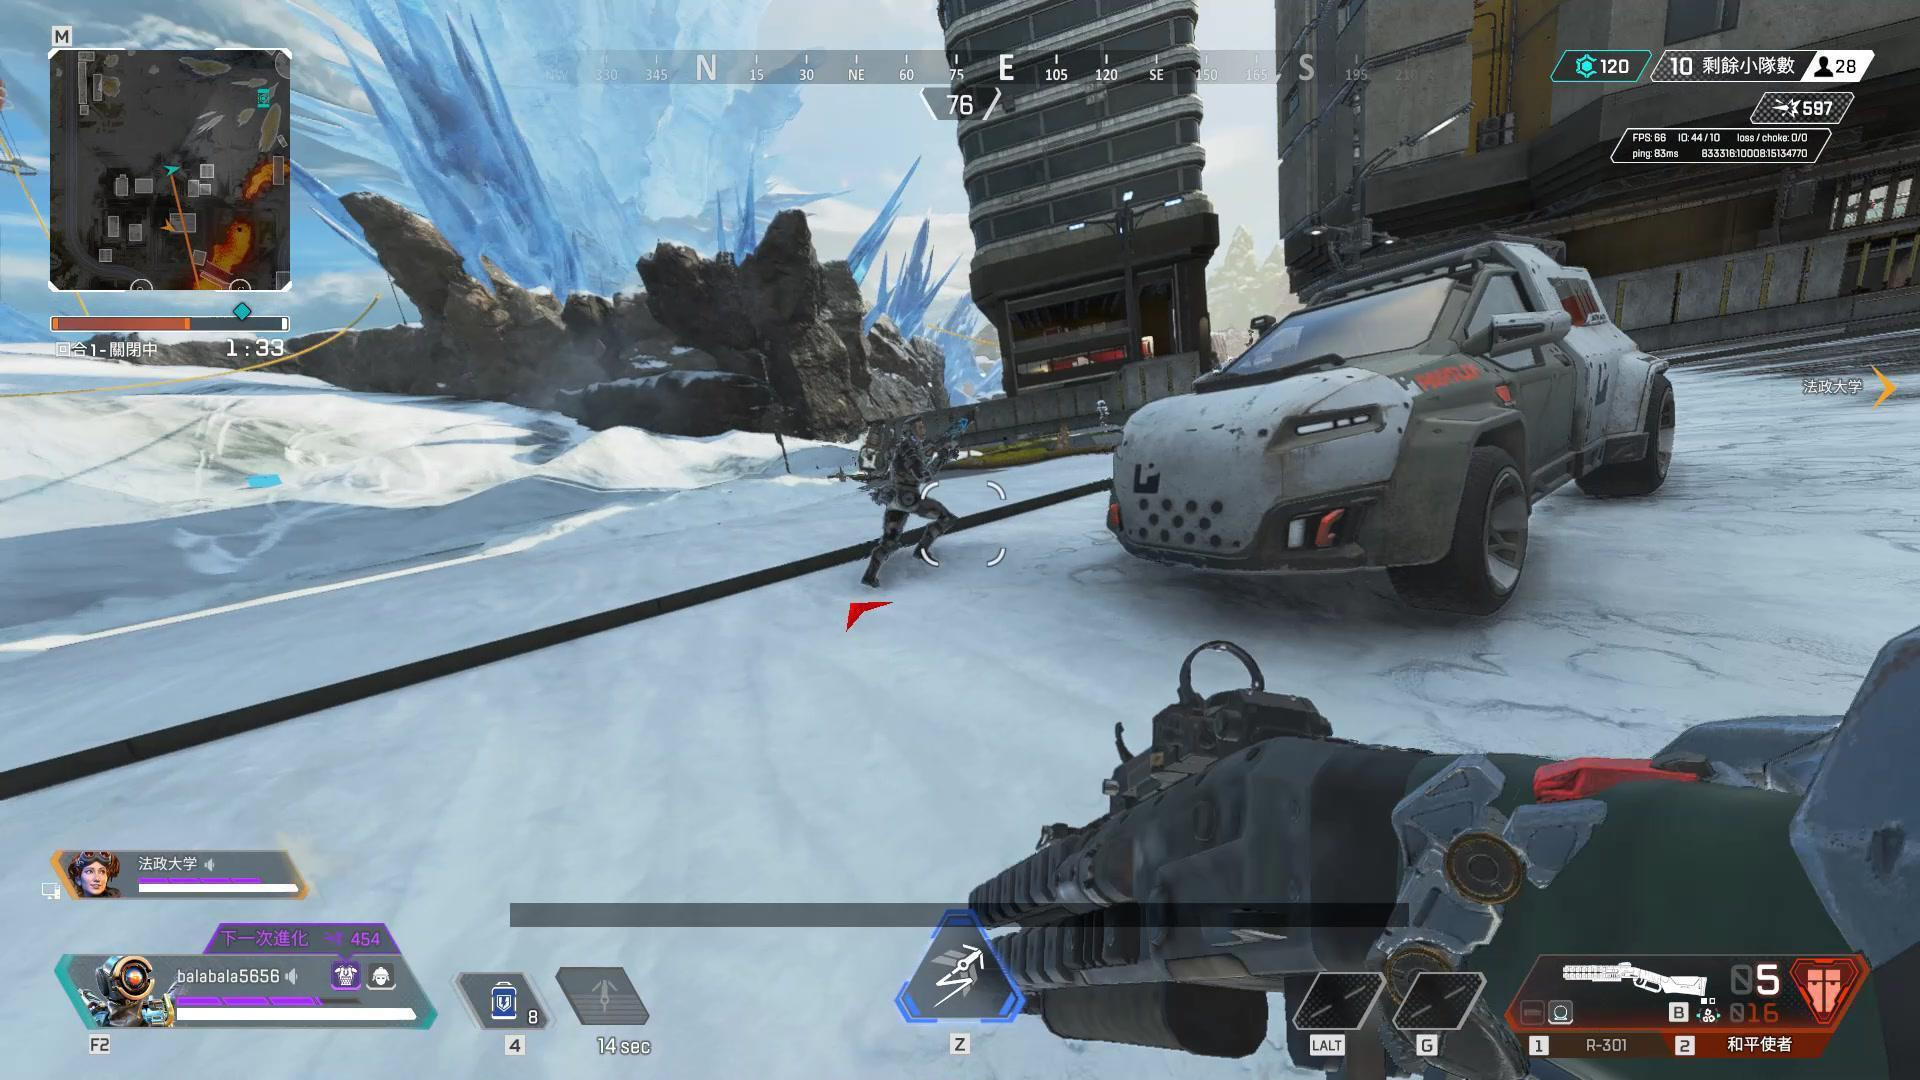avatar: (857, 413, 962, 590)
